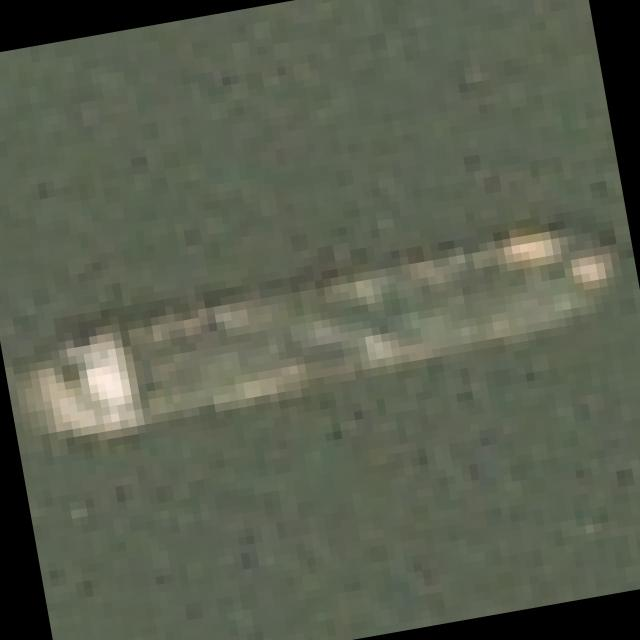ship: (0, 186, 640, 486)
